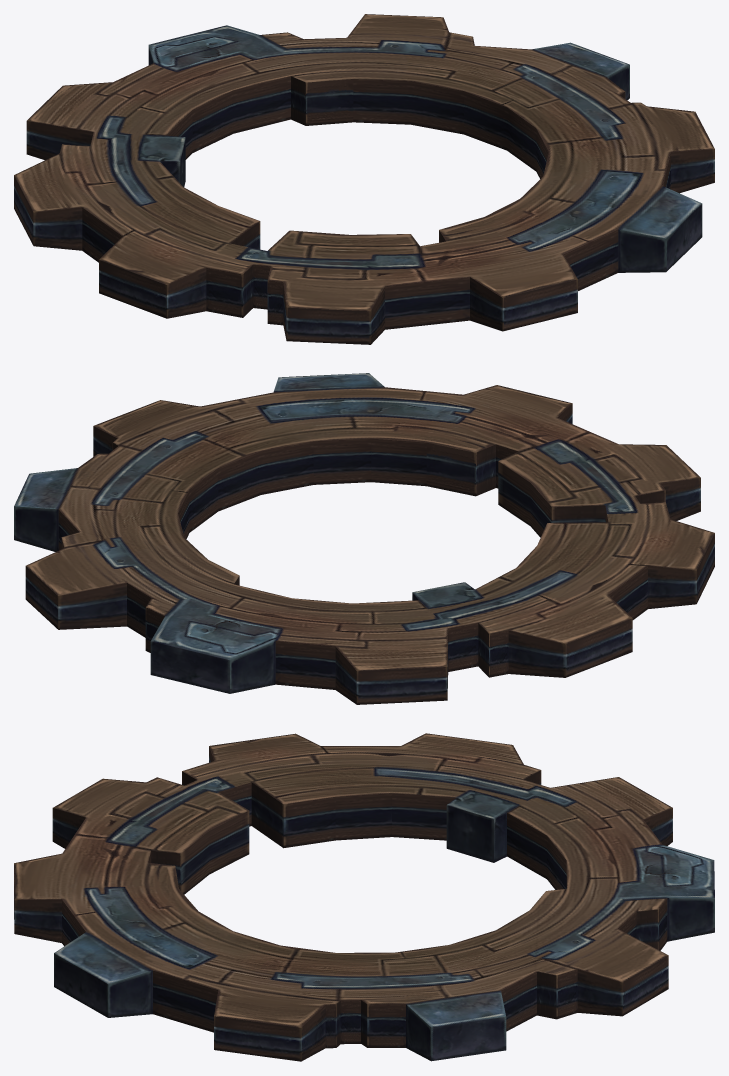
Rendered from SV_AFT_jjc2_chilun4_0.FBX.
3 views of the same model, one above another, from view 1: azimuth 30°, elevation 25°; view 2: azimuth 150°, elevation 25°; view 3: azimuth 270°, elevation 25° (orthographic).
Parts seen in each view (by area): view 1: SV_AFT_jjc2_chilun4_0; view 2: SV_AFT_jjc2_chilun4_0; view 3: SV_AFT_jjc2_chilun4_0.
Boxes of the visible parts, x1=… form: SV_AFT_jjc2_chilun4_0: x1=14, y1=14, x2=714, y2=344; SV_AFT_jjc2_chilun4_0: x1=14, y1=373, x2=714, y2=704; SV_AFT_jjc2_chilun4_0: x1=14, y1=733, x2=714, y2=1061.
Size of the model in its own units: 12 by 0.8307 by 12.06.
